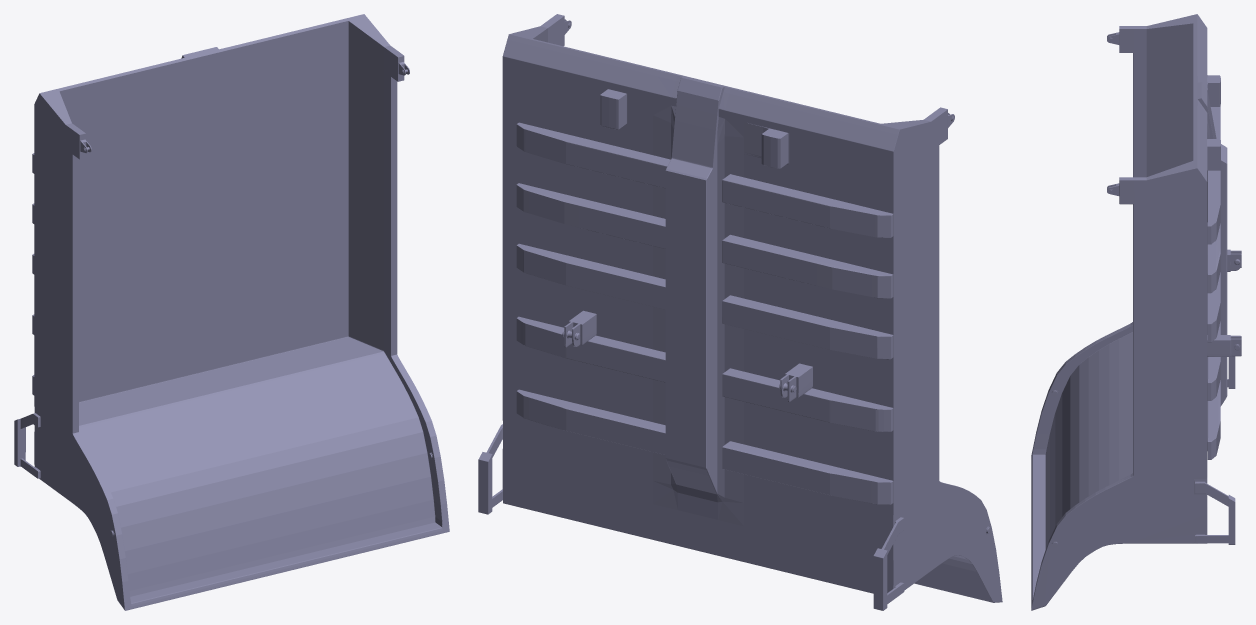
File: container_LowPoly.obj
3 renders of one model, left to right at view 1: azimuth 30°, elevation 25°; view 2: azimuth 150°, elevation 25°; view 3: azimuth 270°, elevation 25°, orthographic. The views are drawn at different scales.
Parts seen in each view (by area): view 1: container_LowPoly\Facets; view 2: container_LowPoly\Facets; view 3: container_LowPoly\Facets.
Boxes of the visible parts, x1,y1,x2,y2 form: container_LowPoly\Facets: [14, 14, 449, 610]; container_LowPoly\Facets: [478, 14, 1002, 610]; container_LowPoly\Facets: [1031, 14, 1241, 610].
Size of the model in its own units: 3 by 3.89 by 1.67.
